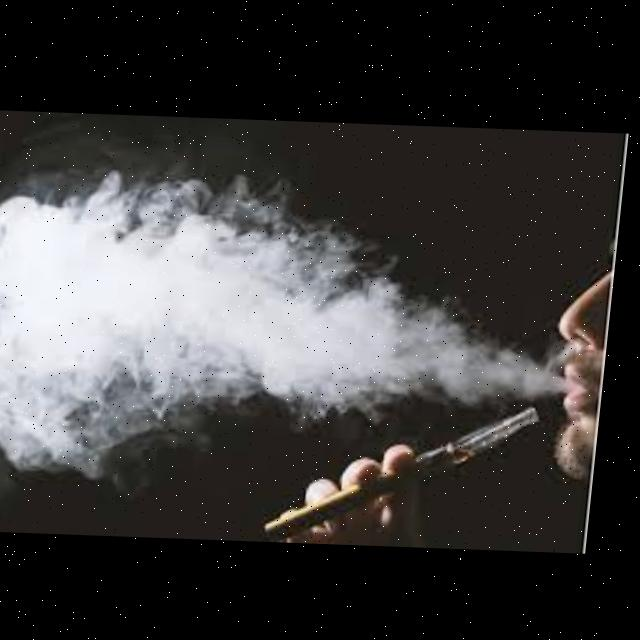vape: (272, 396, 549, 546)
